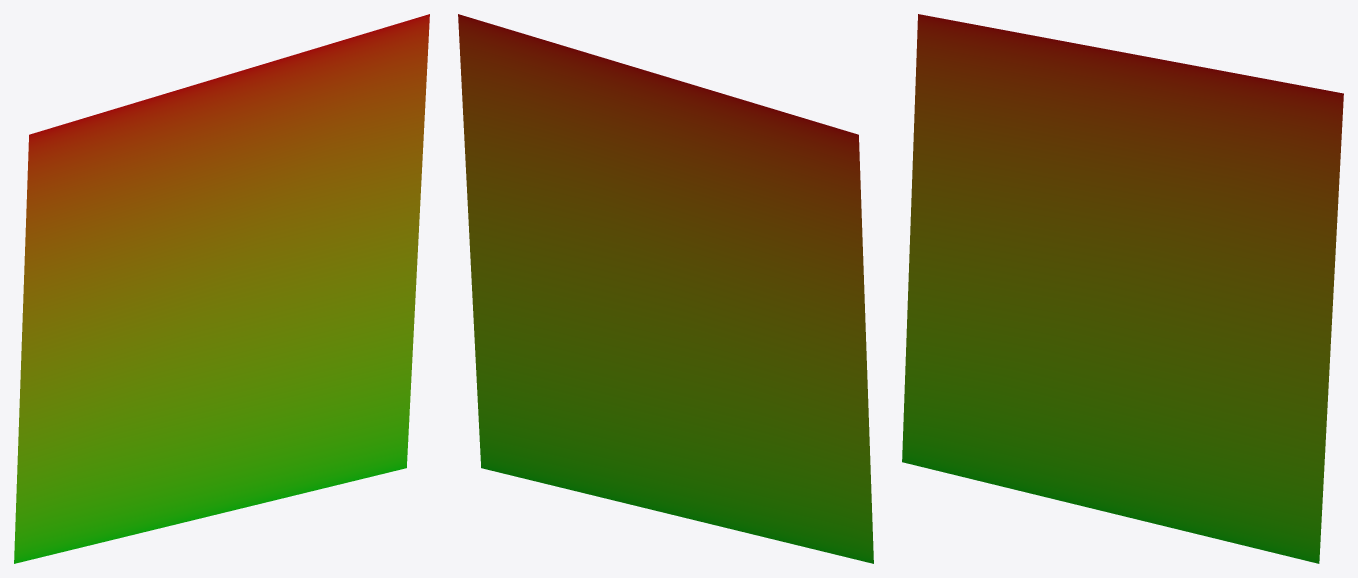
File: Cast - Iron Plant_LOD3_Var5_shdmr.fbx
3 views of the same model, side by side, from view 1: azimuth 30°, elevation 25°; view 2: azimuth 150°, elevation 25°; view 3: azimuth 330°, elevation 25° (orthographic). The views are drawn at different scales.
Parts seen in each view (by area): view 1: _6d1e_Var5_LOD3; view 2: _6d1e_Var5_LOD3; view 3: _6d1e_Var5_LOD3.
Part boxes in pixels (left/top/right/bottom): _6d1e_Var5_LOD3: left=14, top=14, right=429, bottom=563; _6d1e_Var5_LOD3: left=458, top=14, right=873, bottom=563; _6d1e_Var5_LOD3: left=902, top=14, right=1343, bottom=563.
Size of the model in its own units: 29.91 by 30.82 by 1.35e-05.
